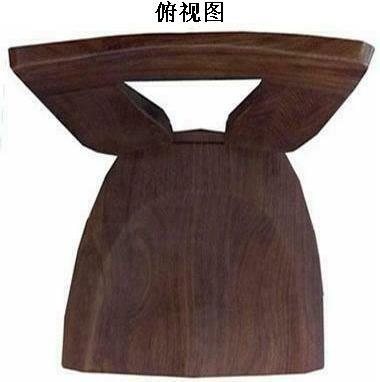obstacle: (9, 32, 372, 376)
